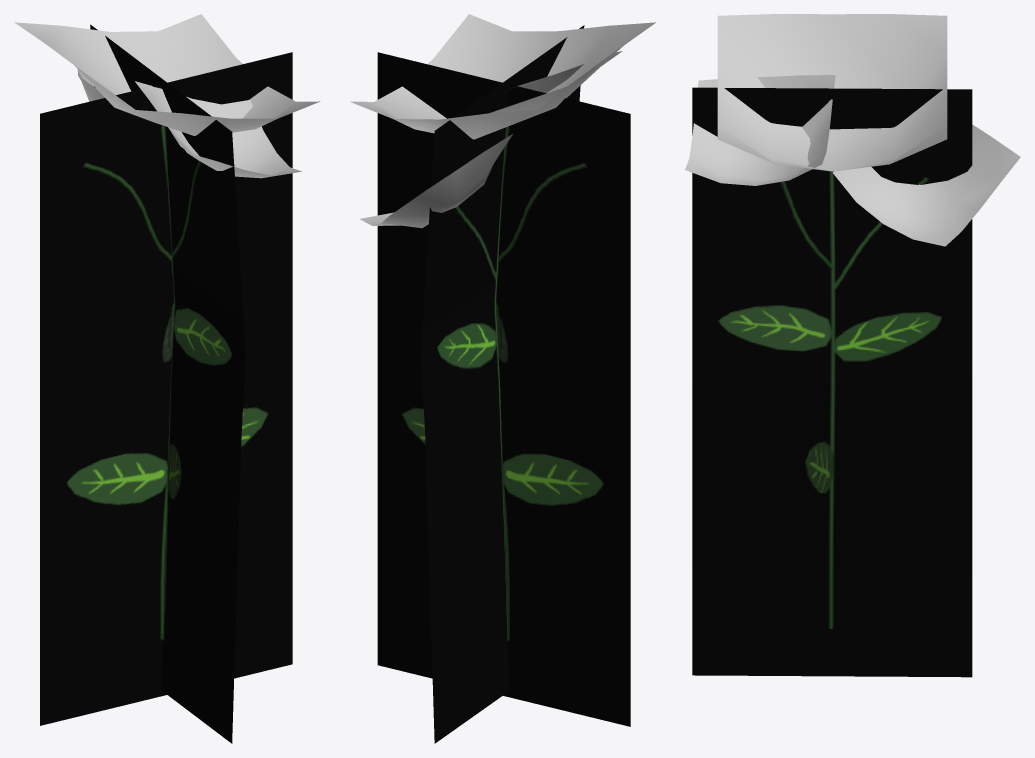
File: flower3 low.fbx
The picture shows the model from 3 angles, left to right: view 1: azimuth 30°, elevation 25°; view 2: azimuth 150°, elevation 25°; view 3: azimuth 270°, elevation 25°; orthographic projection. The views are drawn at different scales.
Parts seen in each view (by area): view 1: pPlane17; view 2: pPlane17; view 3: pPlane17.
Part boxes in pixels (x1,y1,x2,y2): pPlane17: (14, 14, 320, 743); pPlane17: (350, 14, 655, 743); pPlane17: (685, 14, 1020, 677).
Size of the model in its own units: 21.27 by 52.61 by 25.53.
